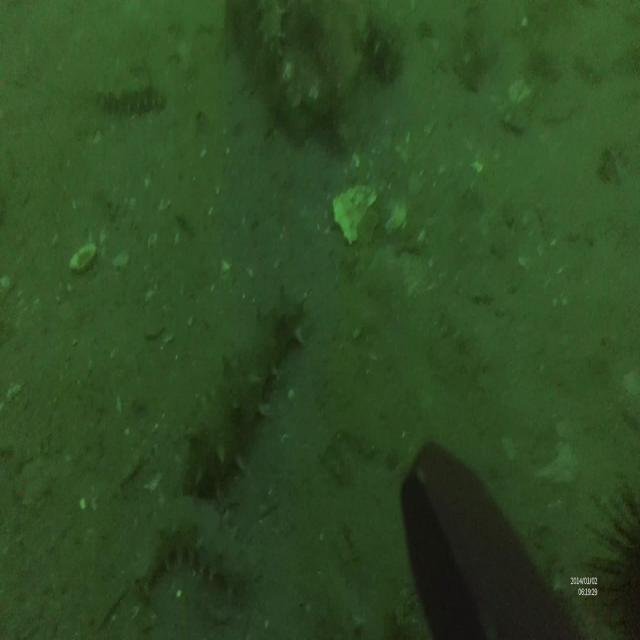echinus: (590, 481, 640, 640)
holothurian: (184, 263, 305, 496), (139, 504, 247, 614), (350, 7, 404, 78), (87, 73, 162, 114)
